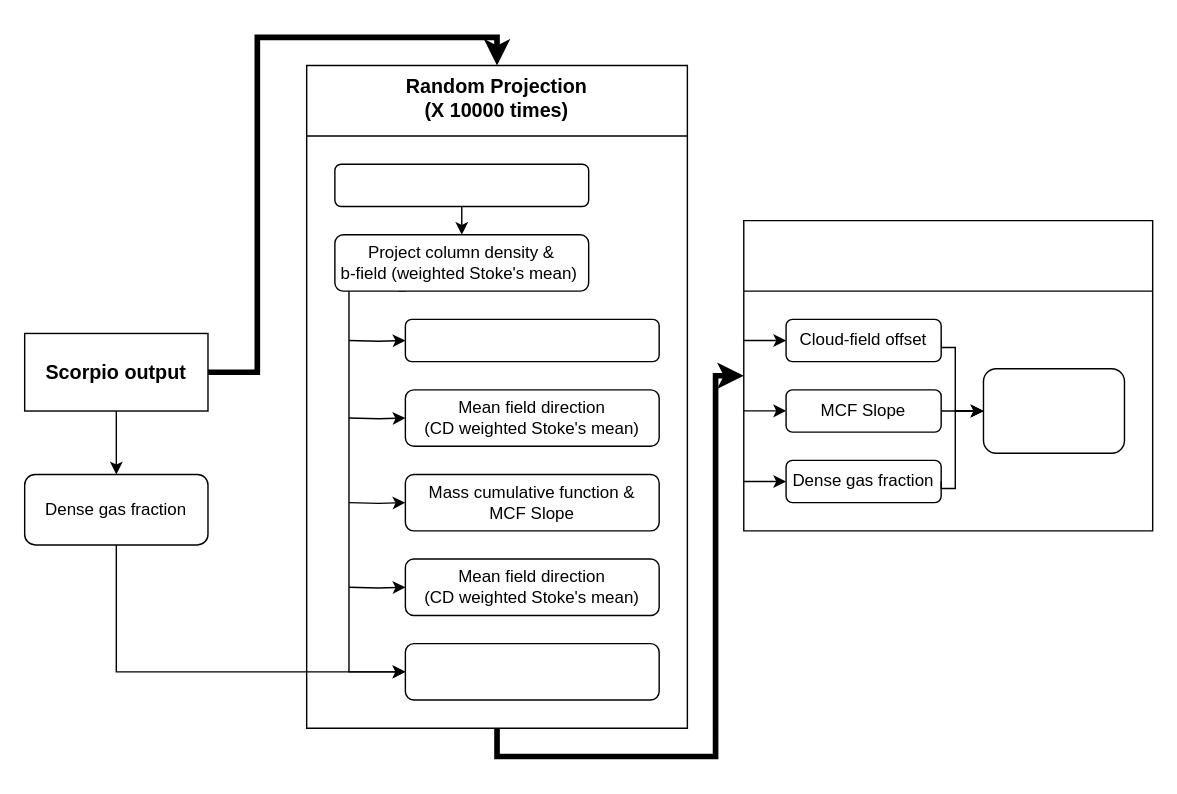
Some shapes in this 1177 by 794 pixel diagram are drawn without their labels. The box of each missing label's shape, as (x1, y1, x2, y2) in pixels:
Closed Contour: (333, 163, 589, 207)
Naive Bayes: (982, 367, 1124, 453)
Projected cloud mass & dense gas fraction: (404, 642, 659, 700)
Statistical Analysis: (742, 219, 1153, 531)
Structure orientation (PCA): (404, 318, 659, 362)
